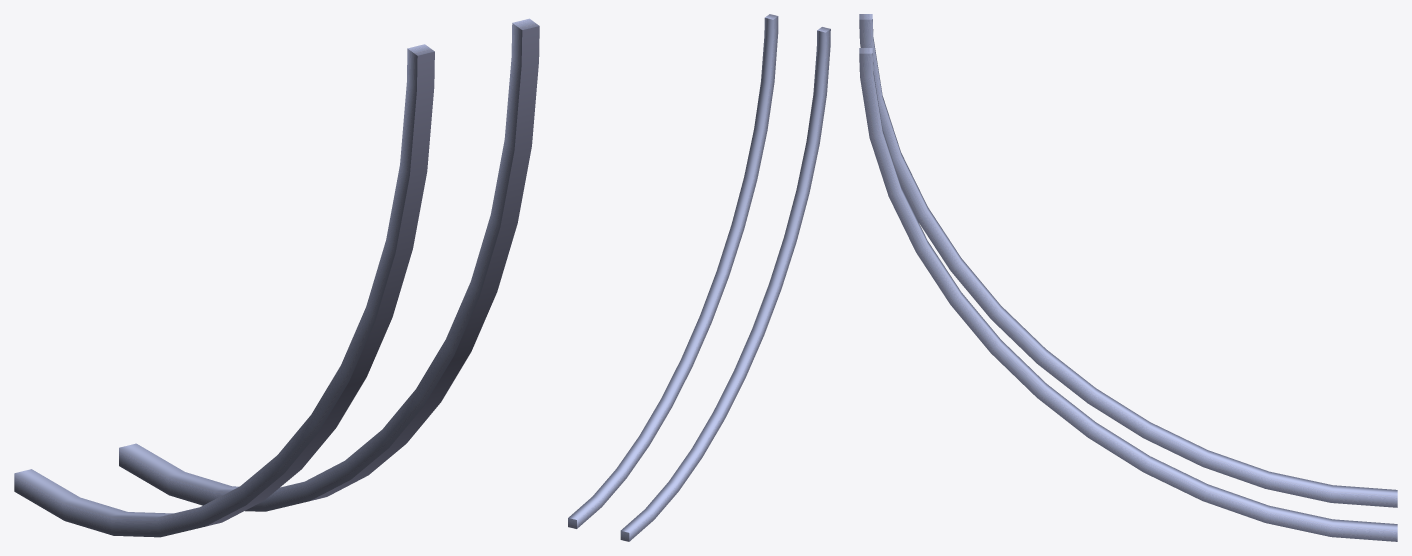
File: railroad-rail-straight-bend-large.glb
The picture shows the model from 3 angles, left to right: view 1: azimuth 30°, elevation 25°; view 2: azimuth 150°, elevation 25°; view 3: azimuth 270°, elevation 25°; orthographic projection. The views are drawn at different scales.
Visible parts, largest first — view 1: railroad-rail-straight-bend-large; view 2: railroad-rail-straight-bend-large; view 3: railroad-rail-straight-bend-large.
Part boxes in pixels (bbox=[...]): railroad-rail-straight-bend-large: bbox=[14, 18, 539, 537]; railroad-rail-straight-bend-large: bbox=[568, 14, 830, 541]; railroad-rail-straight-bend-large: bbox=[859, 14, 1397, 541].
Size of the model in its own units: 0.6997 by 4 by 4.
1 material, 1 textured.
